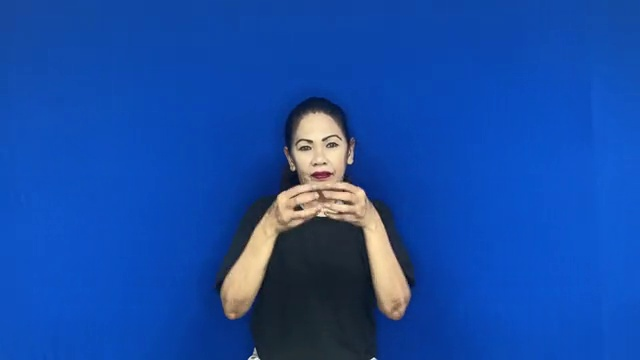egg: (255, 173, 377, 238)
